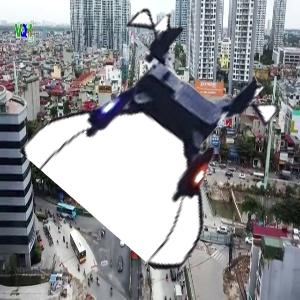drone: (52, 21, 271, 240)
